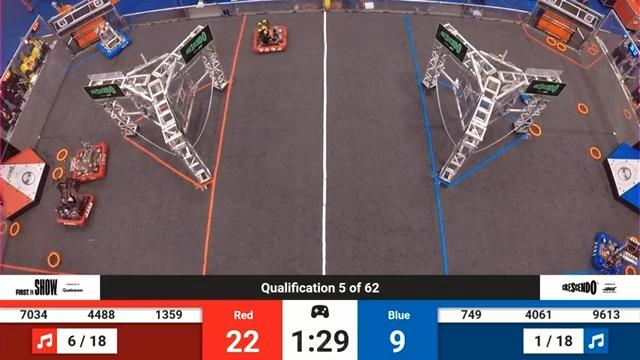robot: (590, 232, 640, 274), (57, 179, 98, 227), (72, 143, 110, 182), (94, 24, 132, 59), (252, 18, 287, 54), (520, 93, 535, 105)
